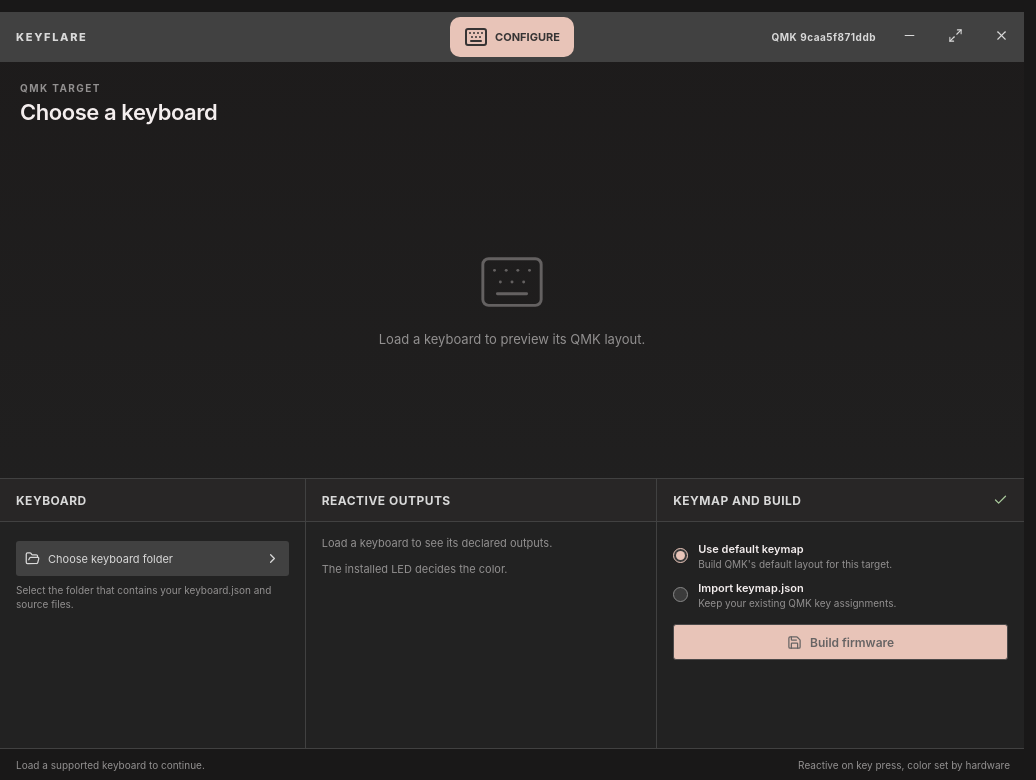
Keyflare › requires a selected imported keymap before building
This screenshot has width=1036, height=780.
Click the button "Choose keyboard folder" at (152, 558), box x1=16 y1=541 x2=289 y2=576
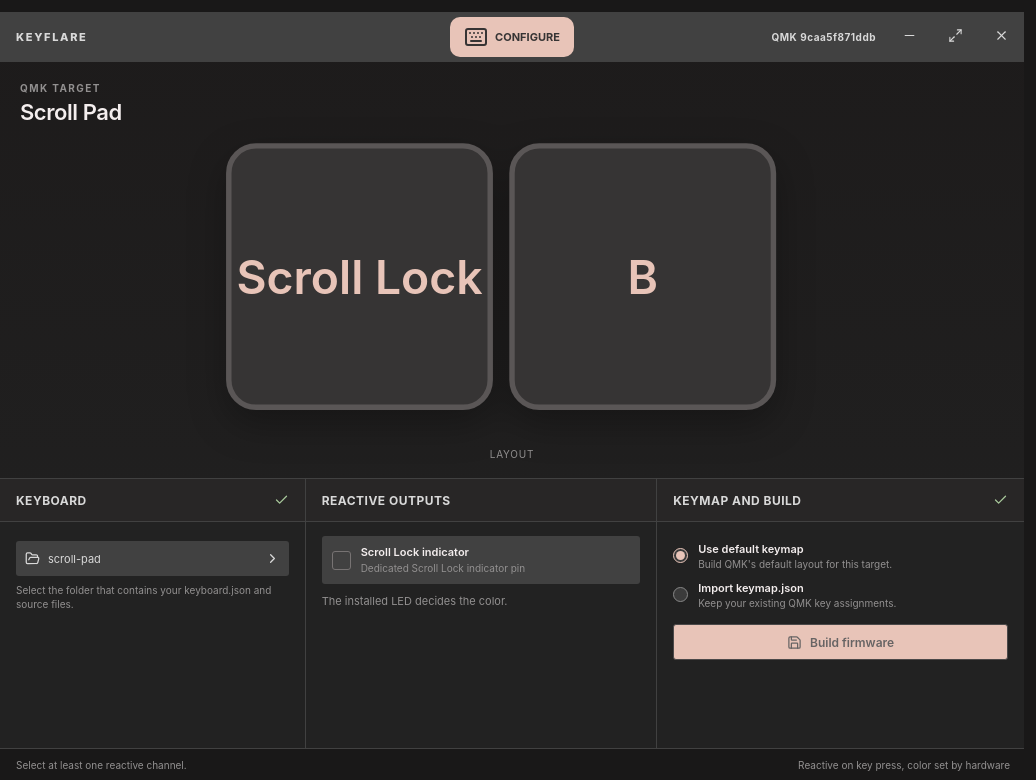
Check: the heading "Scroll Pad" is shown, box x1=20 y1=99 x2=122 y2=125
Click the radio button labelled "Import keymap.json" at (681, 594), box x1=673 y1=587 x2=688 y2=602
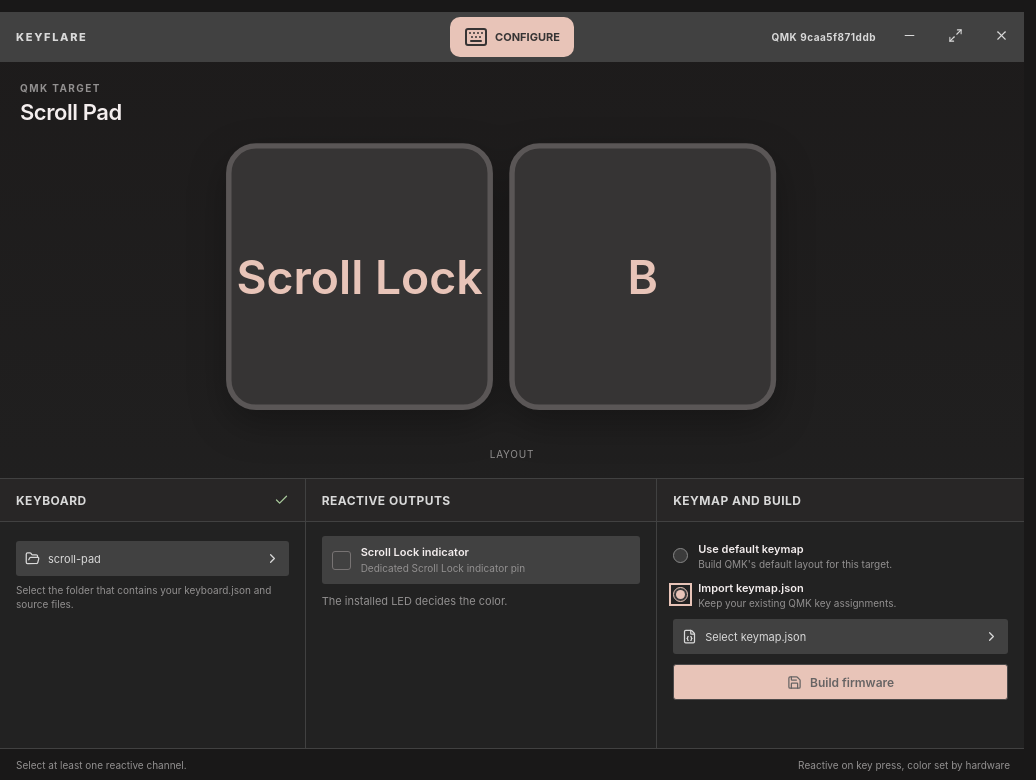
Check: the button "Build firmware" is disabled, box x1=673 y1=664 x2=1008 y2=700
Click the button "Select keymap.json" at (756, 636), box x1=673 y1=619 x2=1008 y2=654
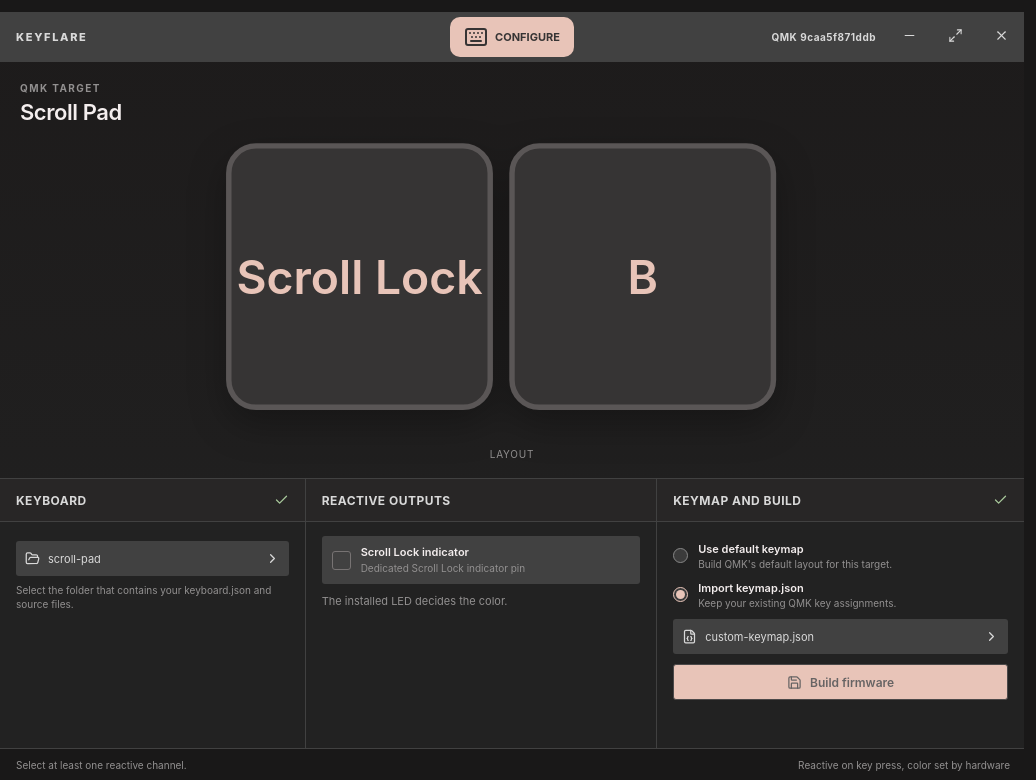
Check: the text "custom-keymap.json" is shown, box x1=705 y1=630 x2=814 y2=644
